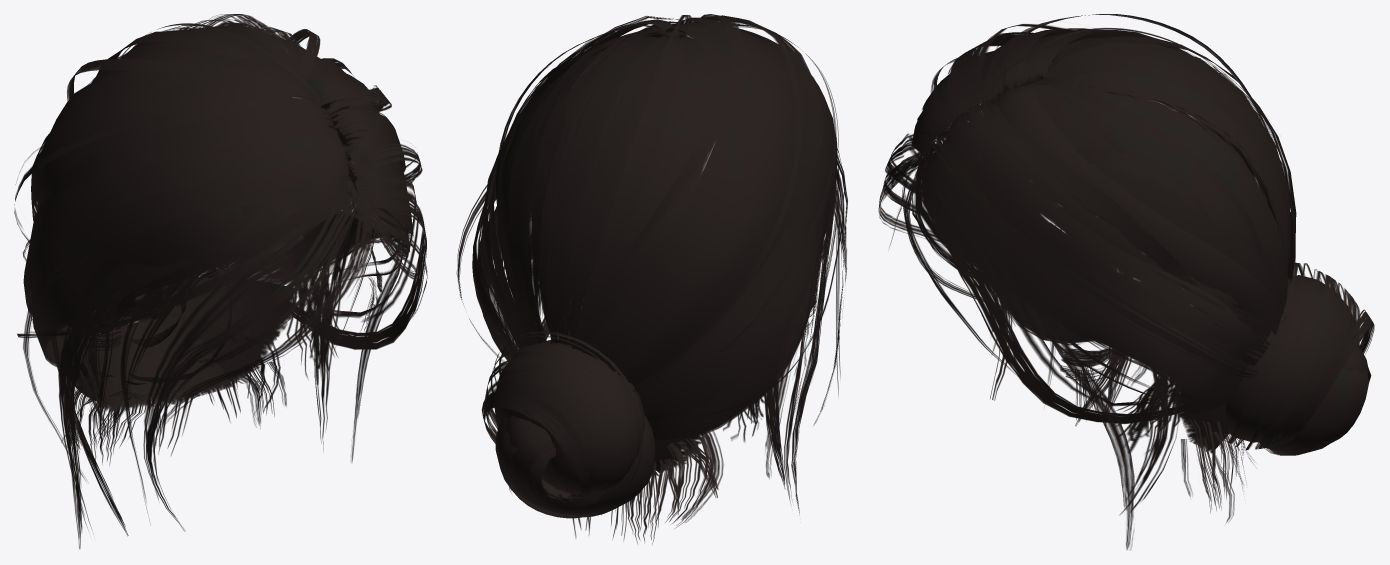
The model's file is hair_puff.glb.
3 renders of one model, left to right at view 1: azimuth 30°, elevation 25°; view 2: azimuth 150°, elevation 25°; view 3: azimuth 270°, elevation 25°, orthographic. The views are drawn at different scales.
Parts seen in each view (by area): view 1: hair_puff; view 2: hair_puff; view 3: hair_puff.
Boxes of the visible parts, x1=… form: hair_puff: x1=14, y1=14, x2=427, y2=548; hair_puff: x1=456, y1=14, x2=847, y2=544; hair_puff: x1=878, y1=14, x2=1374, y2=550.
Bounding box in the file's own units: 0.2007 × 0.2669 × 0.2591.
1 material, 1 textured.
